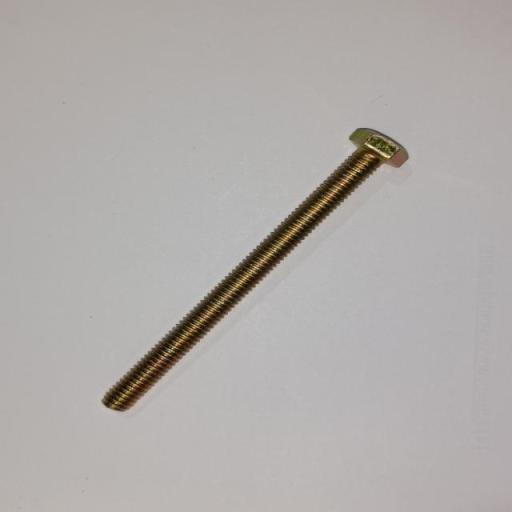Bolt: (101, 127, 409, 412)
